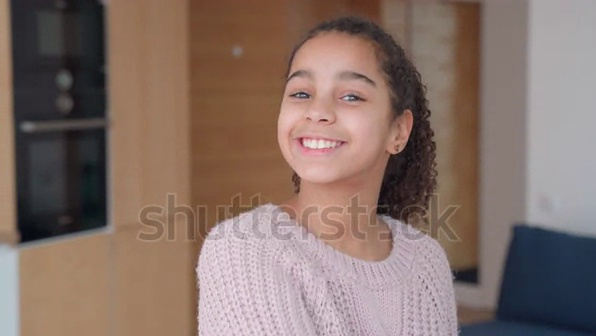No Mask: (269, 113, 384, 187)
